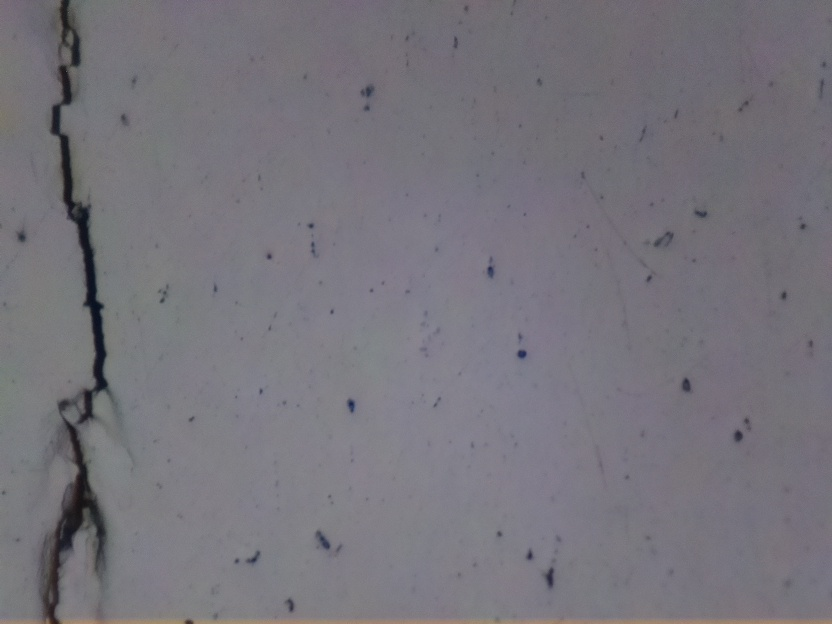crack: (31, 0, 131, 624)
